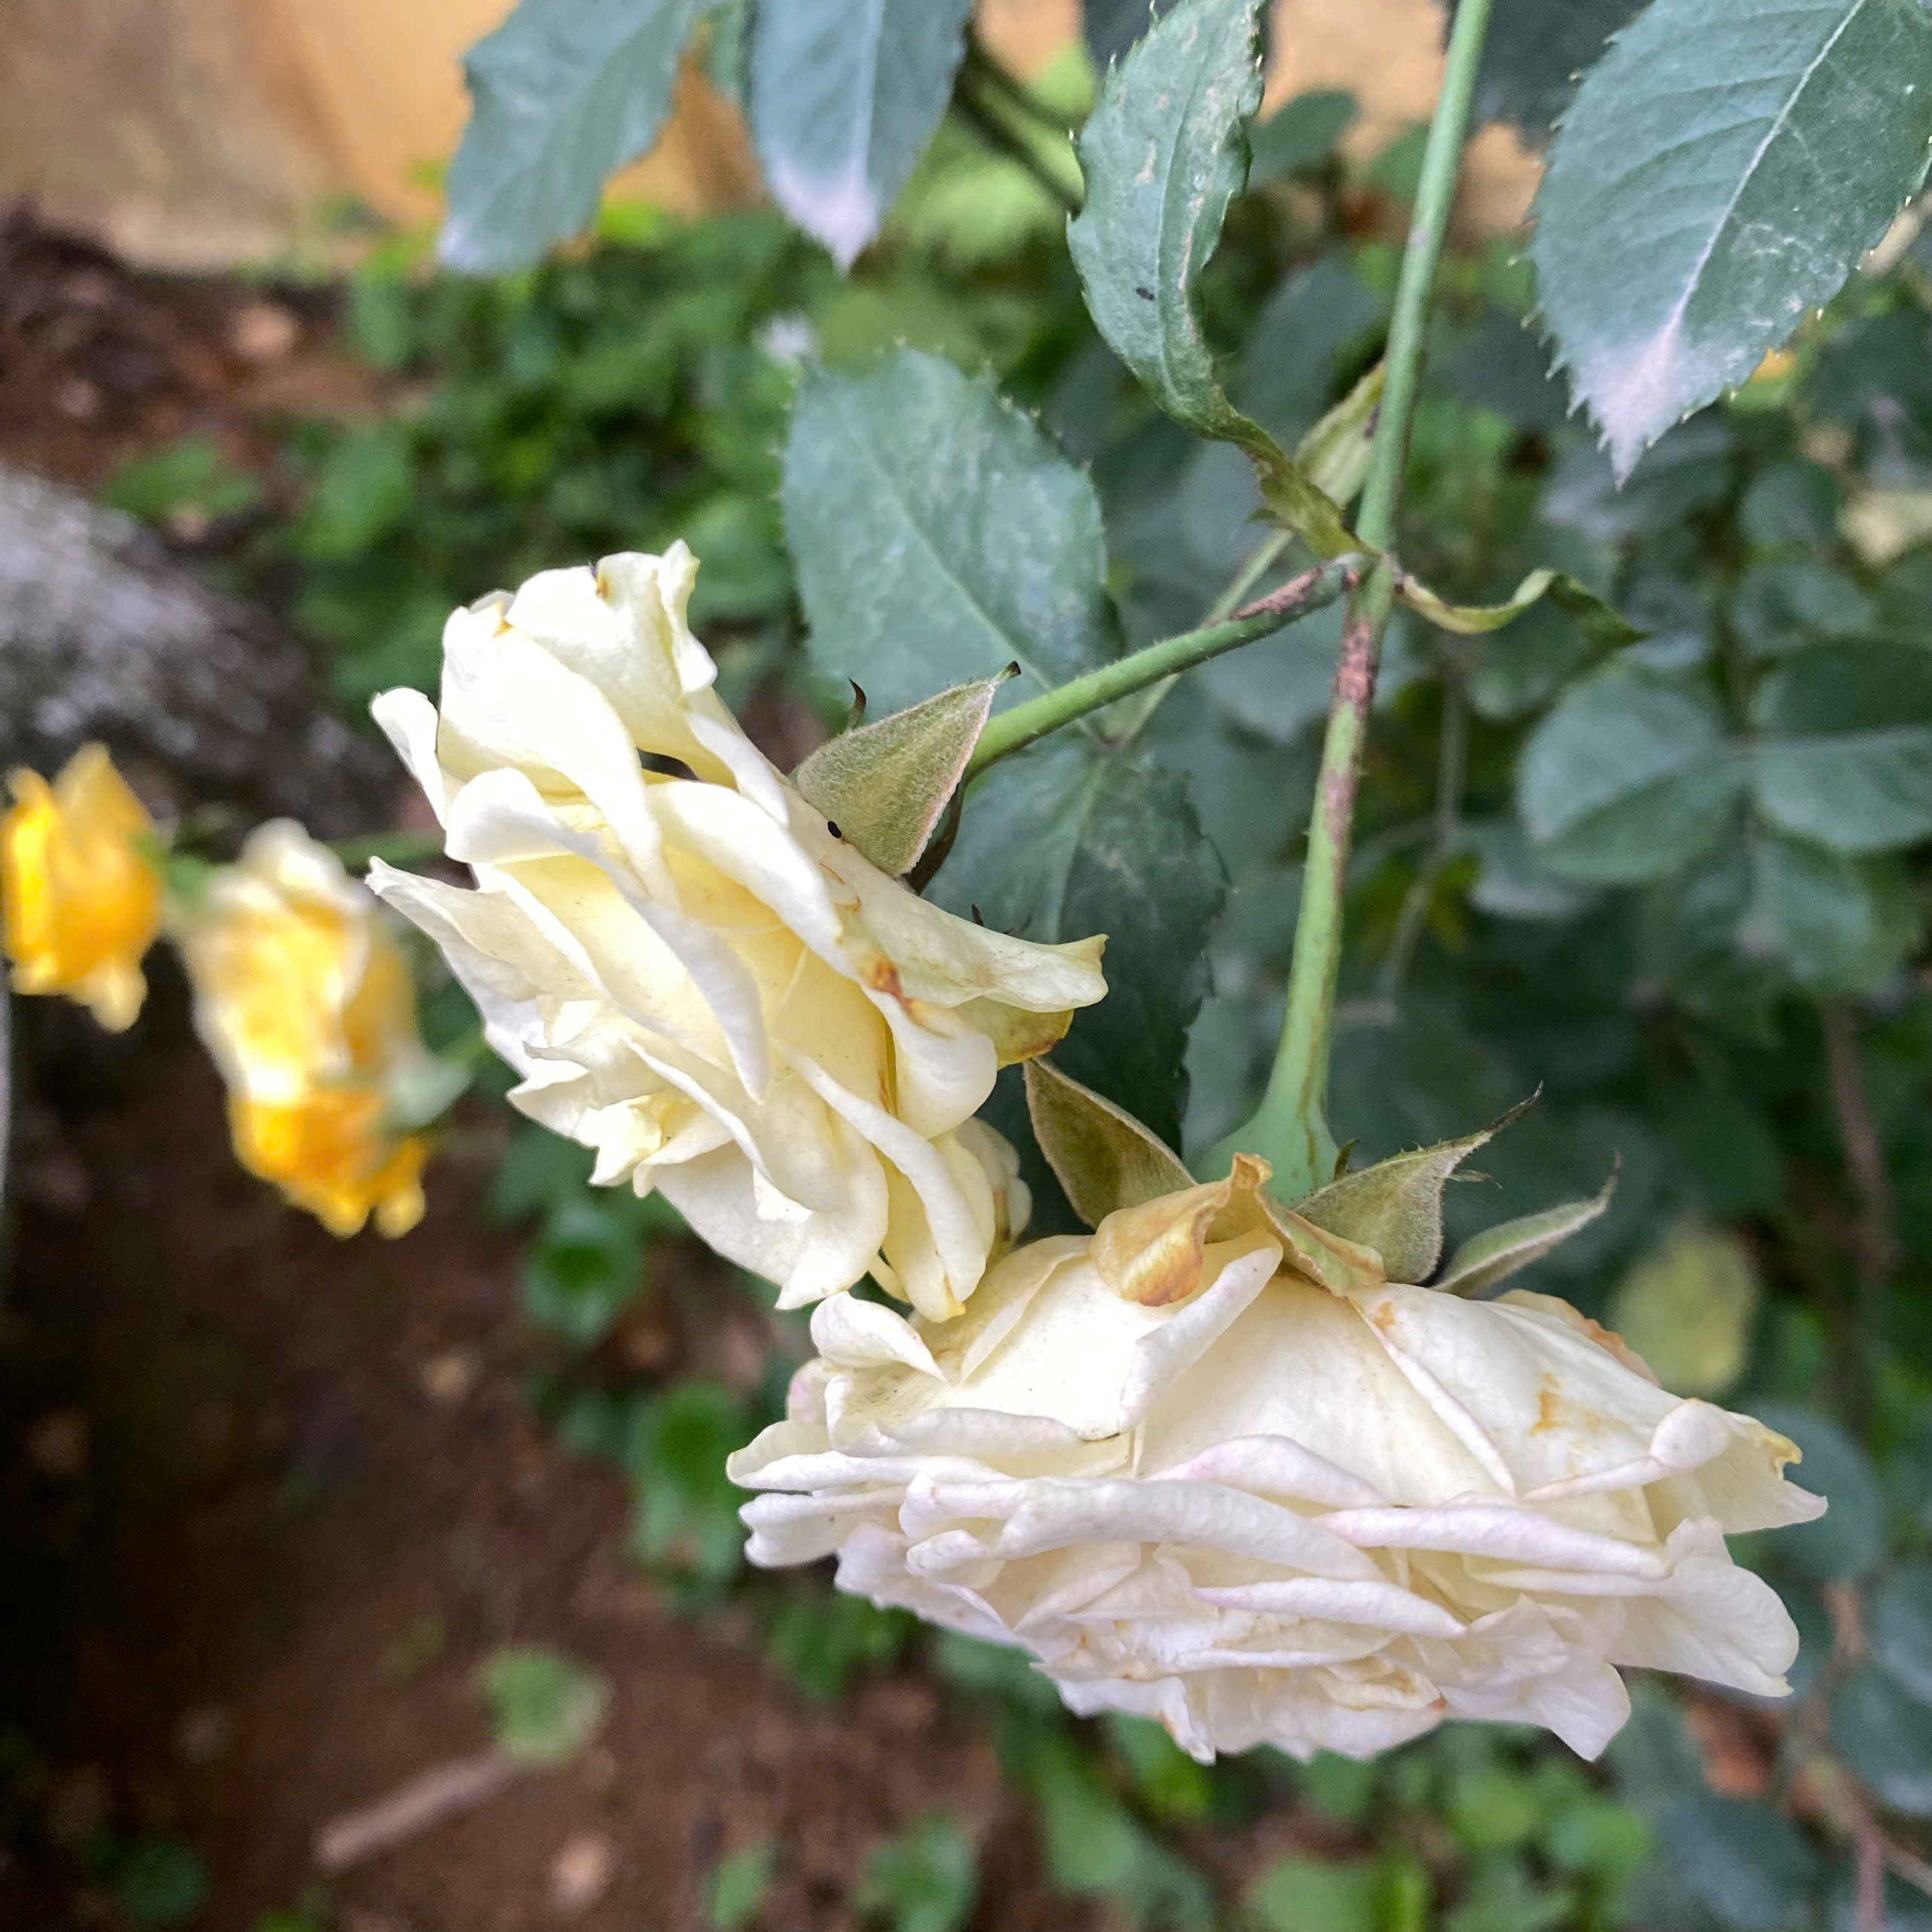hoa_thuoc_duoc: (315, 513, 1927, 1826)
